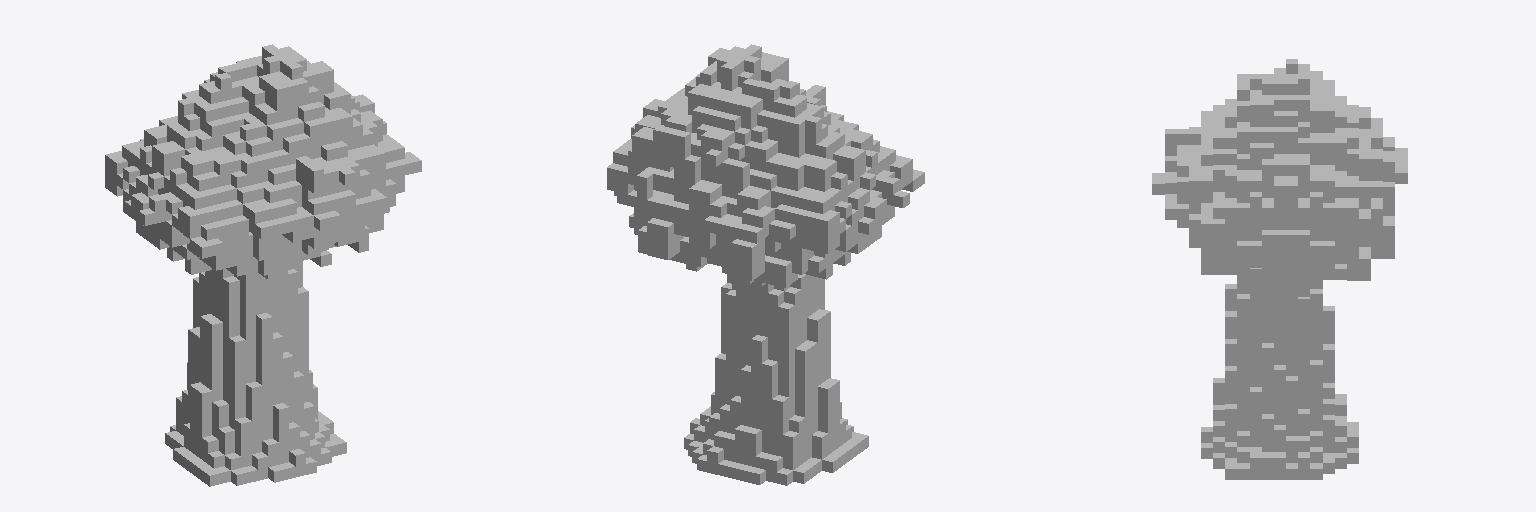
File: tree1.obj
The picture shows the model from 3 angles: view 1: azimuth 30°, elevation 25°; view 2: azimuth 150°, elevation 25°; view 3: azimuth 270°, elevation 25°; orthographic projection.
Visible parts, largest first — view 1: object 1; view 2: object 1; view 3: object 1.
Boxes of the visible parts, <box> form: object 1: <box>105,44,421,486</box>; object 1: <box>607,44,924,485</box>; object 1: <box>1152,59,1407,479</box>.
Size of the model in its own units: 2.4 by 3.5 by 2.1.